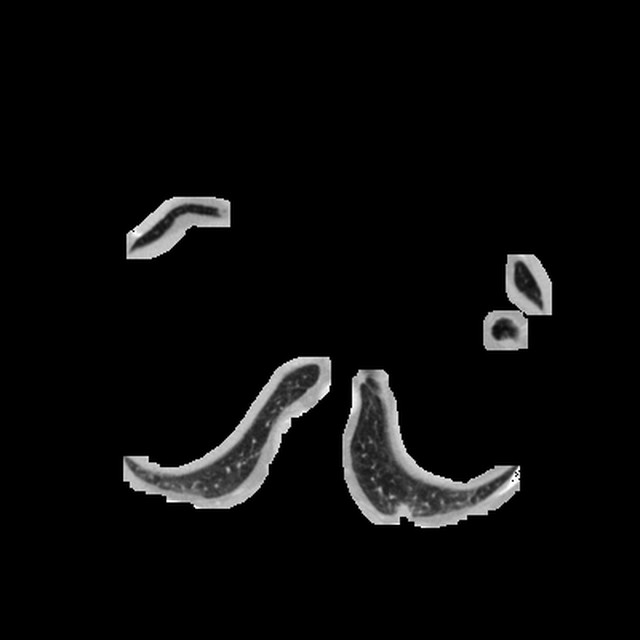PN: (397, 504, 410, 517)
